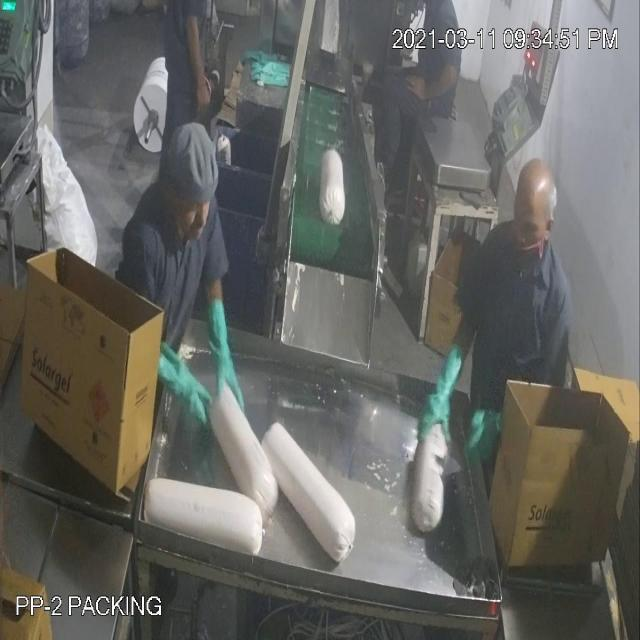No_Gloves: (37, 58, 444, 395)
